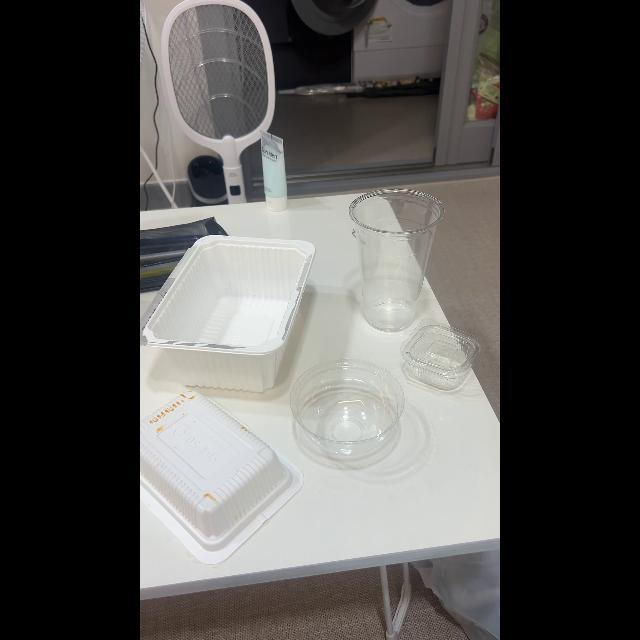clean: (161, 235, 315, 381), (348, 194, 444, 330), (288, 356, 406, 456), (401, 324, 482, 388)
dirty: (140, 391, 288, 541)
